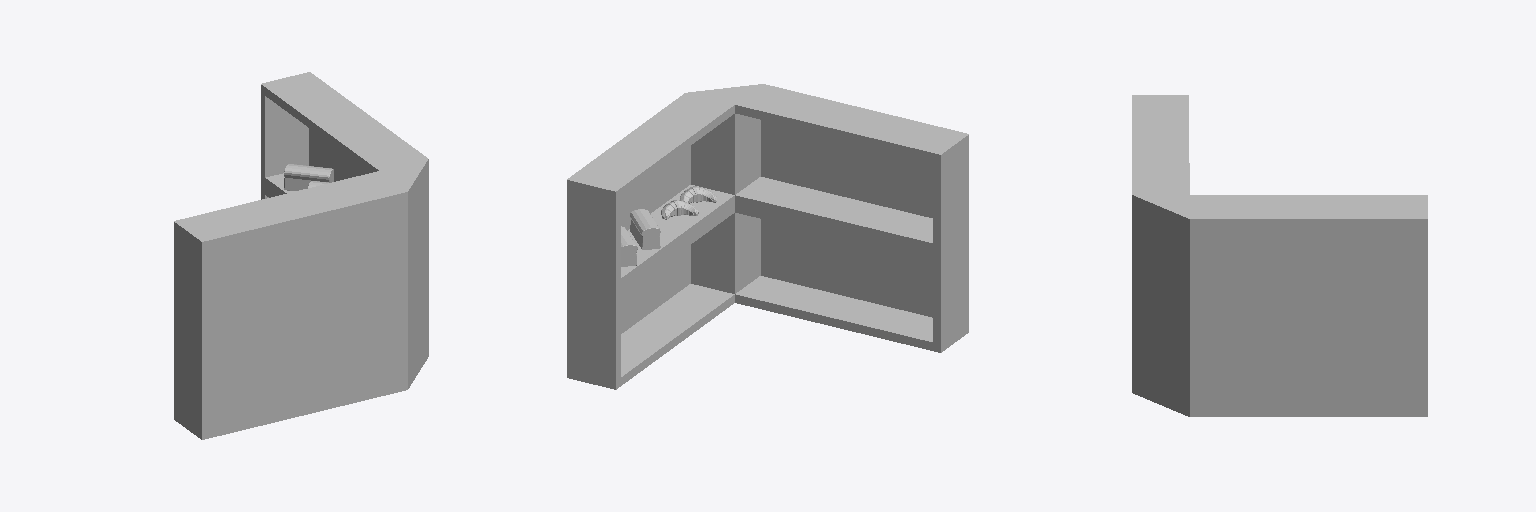
File: BreadShelf.obj
The picture shows the model from 3 angles: view 1: azimuth 30°, elevation 25°; view 2: azimuth 150°, elevation 25°; view 3: azimuth 270°, elevation 25°; orthographic projection.
Visible parts, largest first — view 1: Bread_Shelf; view 2: Bread_Shelf; view 3: Bread_Shelf.
Part boxes in pixels (x1,y1,x2,y2): Bread_Shelf: (174,72,428,439); Bread_Shelf: (567,84,968,389); Bread_Shelf: (1132,95,1427,416).
Bounding box in the file's own units: 3.18 × 2.36 × 3.19.